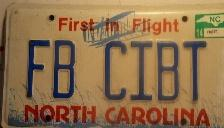1: (129, 39, 154, 101)
B: (51, 38, 78, 100), (155, 39, 181, 102)
C: (101, 39, 129, 102)
F: (25, 38, 51, 102)
T: (182, 39, 209, 103), (129, 39, 155, 102)
